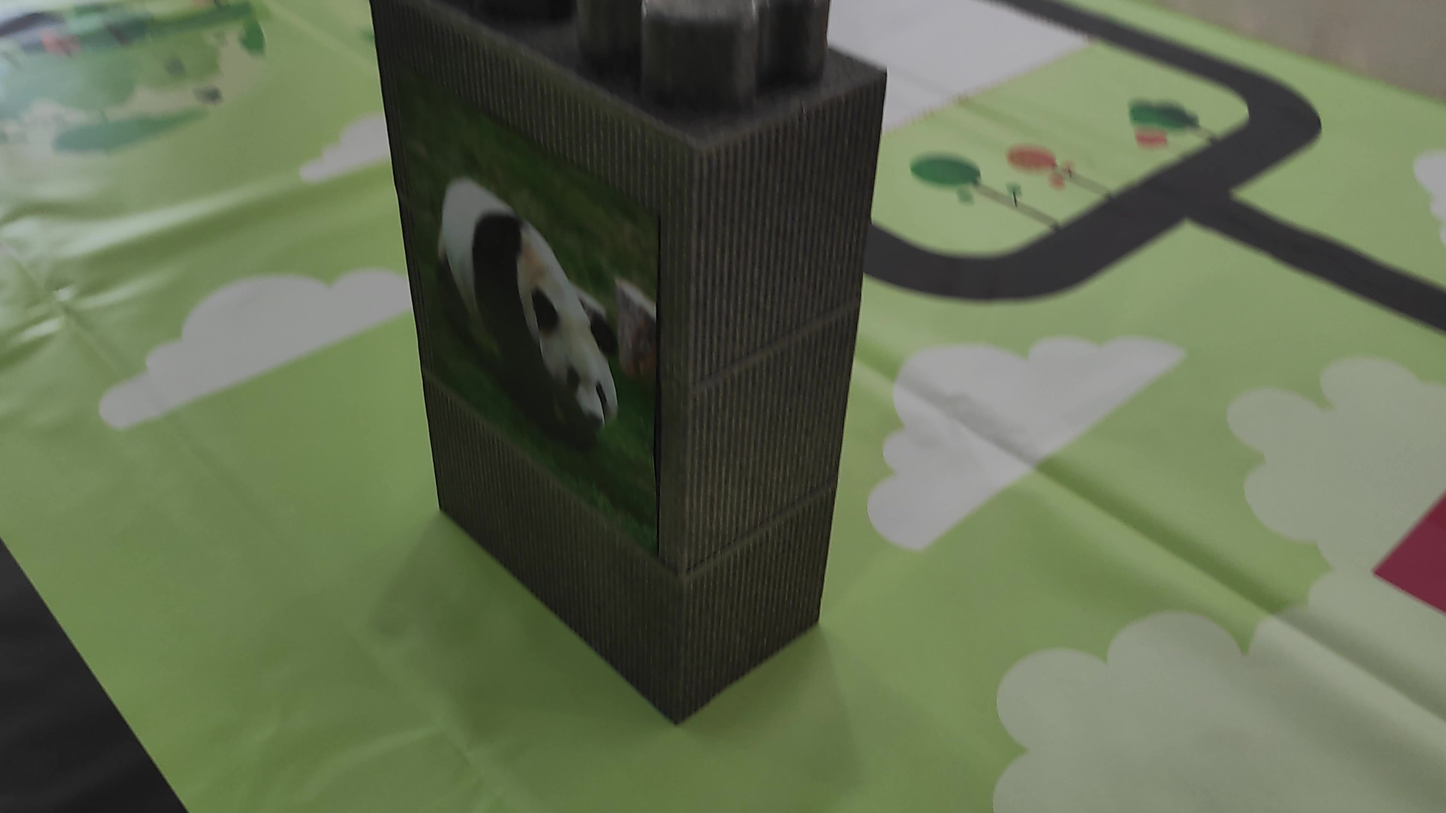panda: (423, 166, 641, 452)
